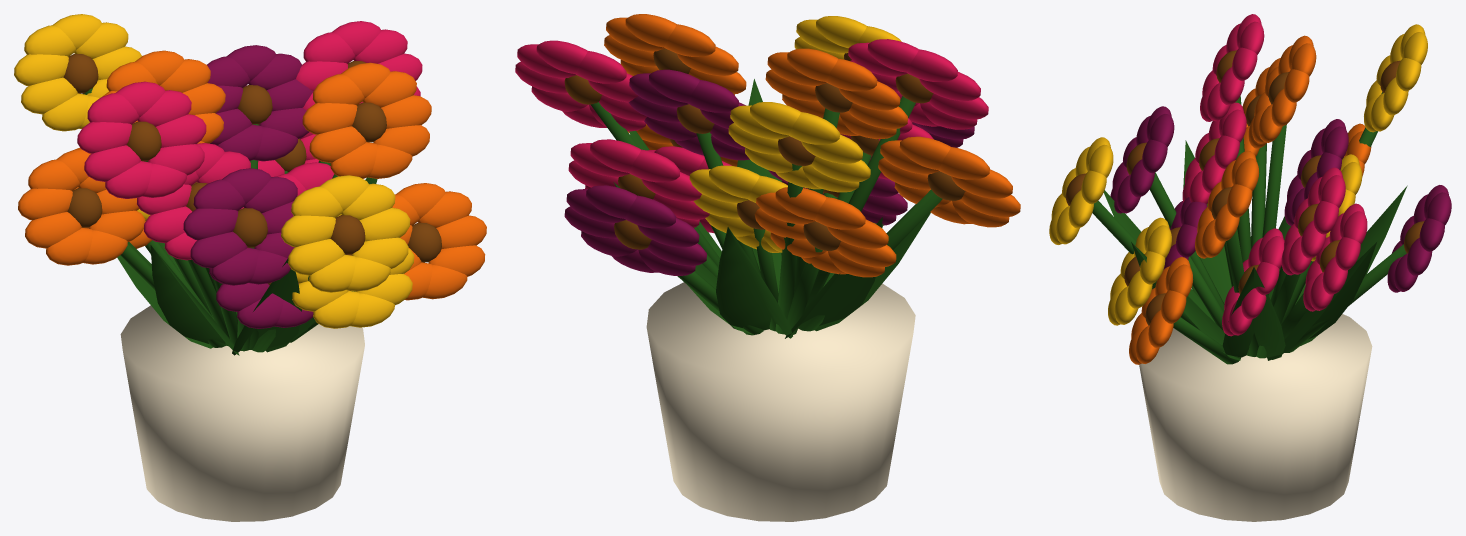
File: flor.obj
3 views of the same model, side by side, from view 1: azimuth 30°, elevation 25°; view 2: azimuth 150°, elevation 25°; view 3: azimuth 270°, elevation 25° (orthographic). The views are drawn at different scales.
Visible parts, largest first — view 1: Cone.035, Hoja_plegada.107, Hoja_plegada.108, Sphere.250, Sphere.220, Sphere.100, Sphere.150, Sphere.120, Sphere.221, Sphere.121, Sphere.151, Sphere.211 (+88 smaller); view 2: Cone.035, Hoja_plegada.105, Hoja_plegada.106, Cone.040, Cone.053, Cone.050, Sphere.169, Sphere.209, Sphere.159, Sphere.239, Sphere.089, Sphere.249 (+86 smaller); view 3: Cone.035, Hoja_plegada.103, Hoja_plegada.104, Cone.045, Hoja_plegada.107, Cone.053, Cone.043, Hoja_plegada.105, Cone.047, Hoja_plegada.109, Cone.041, Cone.038 (+60 smaller).
Part boxes in pixels (bbox=[...]): Cone.035: bbox=[120, 305, 364, 521]; Hoja_plegada.107: bbox=[150, 245, 239, 355]; Hoja_plegada.108: bbox=[232, 258, 301, 355]; Sphere.250: bbox=[18, 188, 72, 220]; Sphere.220: bbox=[14, 54, 68, 85]; Sphere.100: bbox=[281, 215, 335, 247]; Sphere.150: bbox=[183, 208, 238, 240]; Sphere.120: bbox=[77, 122, 131, 153]; Sphere.221: bbox=[21, 77, 77, 114]; Sphere.121: bbox=[84, 145, 140, 181]; Sphere.151: bbox=[190, 231, 247, 268]; Sphere.211: bbox=[309, 126, 366, 162]; Cone.035: bbox=[646, 282, 915, 521]; Hoja_plegada.105: bbox=[716, 227, 792, 338]; Hoja_plegada.106: bbox=[785, 217, 882, 338]; Cone.040: bbox=[805, 96, 915, 308]; Cone.053: bbox=[798, 189, 942, 331]; Cone.050: bbox=[775, 164, 802, 334]; Sphere.169: bbox=[826, 58, 877, 91]; Sphere.209: bbox=[664, 24, 715, 56]; Sphere.159: bbox=[575, 51, 626, 83]; Sphere.239: bbox=[629, 149, 680, 182]; Sphere.089: bbox=[814, 197, 865, 229]; Sphere.249: bbox=[938, 147, 989, 179]; Cone.035: bbox=[1139, 314, 1372, 521]; Hoja_plegada.103: bbox=[1222, 267, 1285, 359]; Hoja_plegada.104: bbox=[1267, 242, 1376, 360]; Cone.045: bbox=[1262, 124, 1286, 295]; Hoja_plegada.107: bbox=[1183, 140, 1231, 303]; Cone.053: bbox=[1251, 143, 1266, 247]; Cone.043: bbox=[1149, 172, 1224, 311]; Hoja_plegada.105: bbox=[1299, 185, 1407, 346]; Cone.047: bbox=[1284, 244, 1406, 352]; Hoja_plegada.109: bbox=[1131, 242, 1240, 360]; Cone.041: bbox=[1173, 317, 1240, 364]; Cone.038: bbox=[1092, 200, 1198, 306].
Size of the model in its own units: 1.81 by 1.7 by 1.53.
